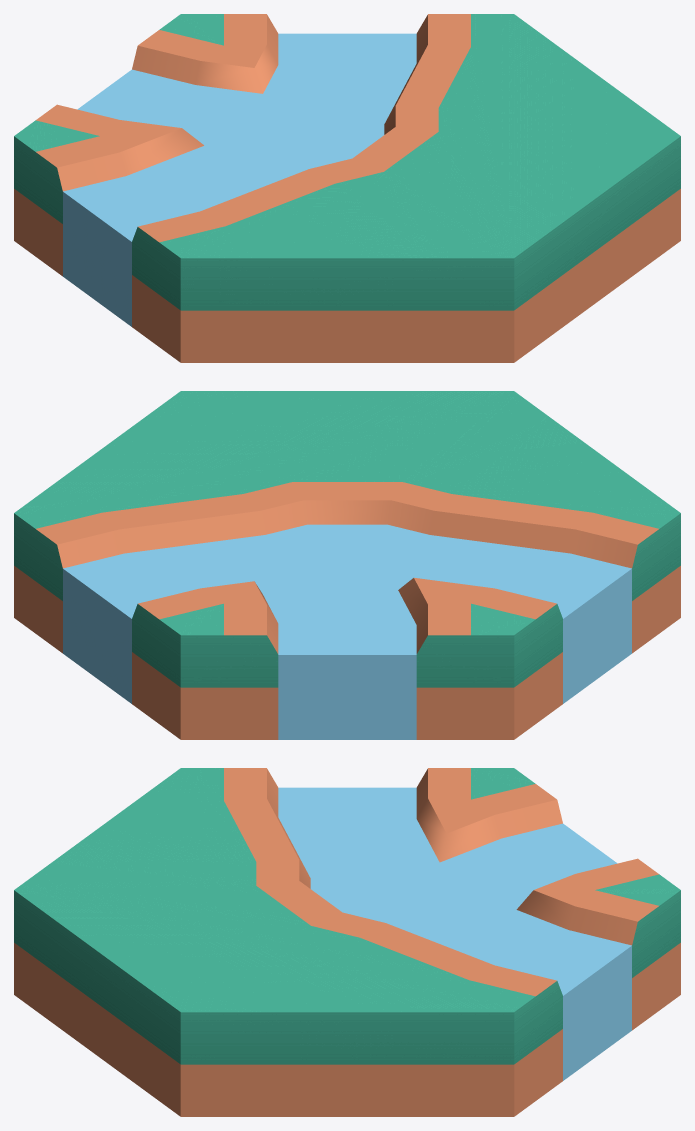
Rendered from river-intersectionA.glb.
3 views of the same model, one above another, from view 1: azimuth 30°, elevation 25°; view 2: azimuth 150°, elevation 25°; view 3: azimuth 270°, elevation 25° (orthographic).
Visible parts, largest first — view 1: river-intersectionA; view 2: river-intersectionA; view 3: river-intersectionA.
Part boxes in pixels (x1,y1,x2,y2): river-intersectionA: (14,14,680,362); river-intersectionA: (14,391,680,739); river-intersectionA: (14,768,680,1116).
Bounding box in the file's own units: 10 × 2 × 11.55.
1 material, 1 textured.
